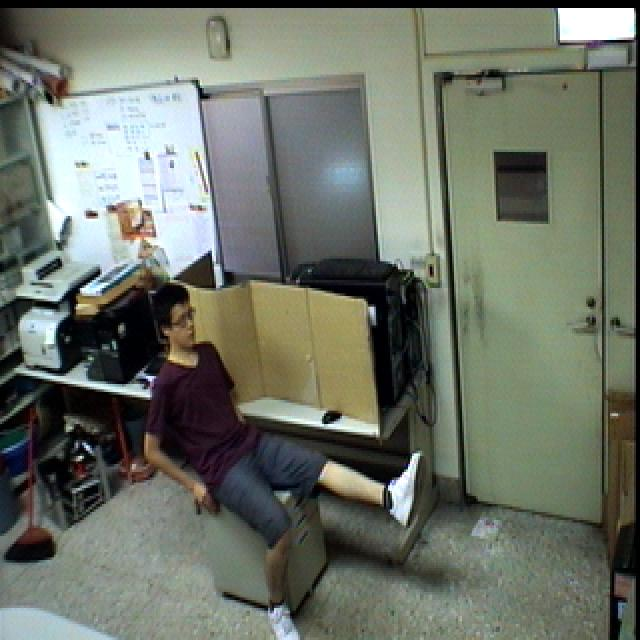sit: (138, 268, 435, 640)
